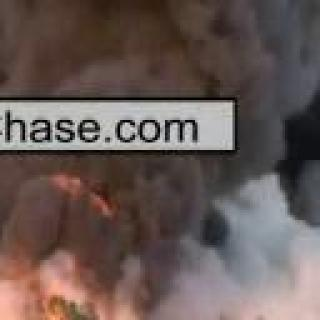fire: (90, 293, 156, 320), (0, 314, 28, 320)
